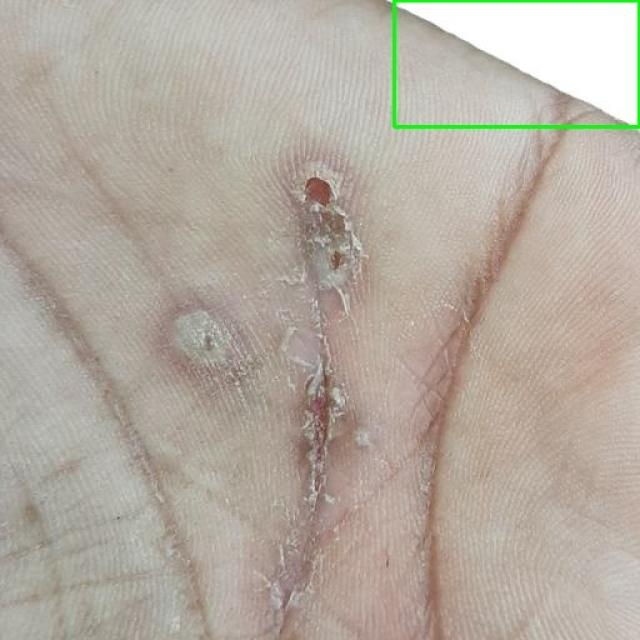Scabies: (394, 0, 639, 126)
